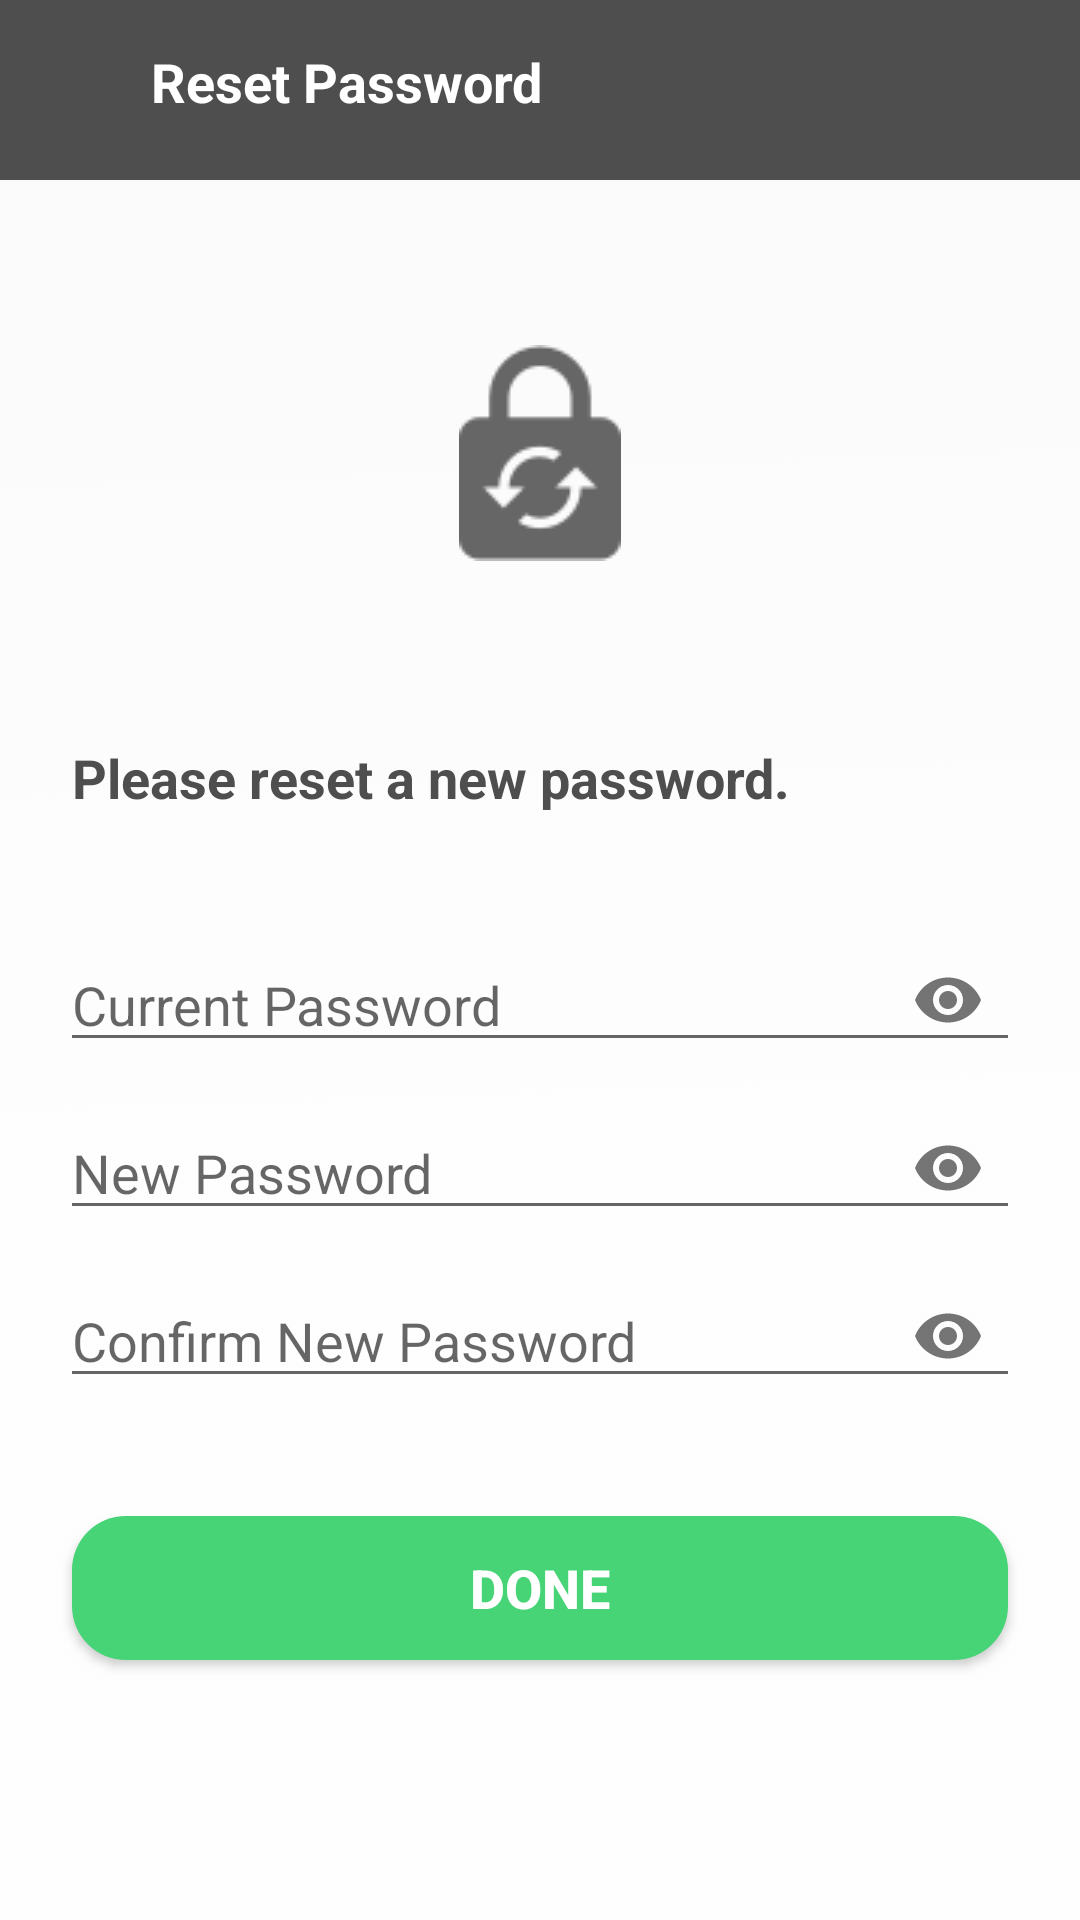

Named icons in this screenshot (1080×1920) and their bounding boxes, bbox=(x1, y1, x2, y2):
reset pwd lock: bbox=(459, 345, 621, 561)
